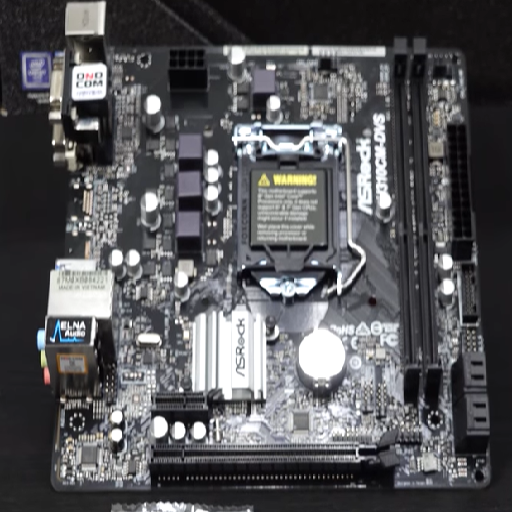CPU: (233, 124, 343, 301)
GPU: (148, 429, 406, 487)
MOTHERBOARD: (46, 10, 492, 494)
RAM: (389, 36, 444, 402)
